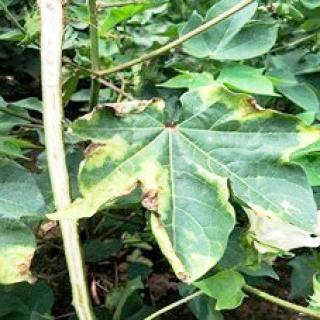wilt: (63, 83, 317, 277)
